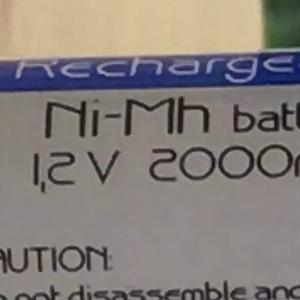keyword: (35, 61, 226, 149)
